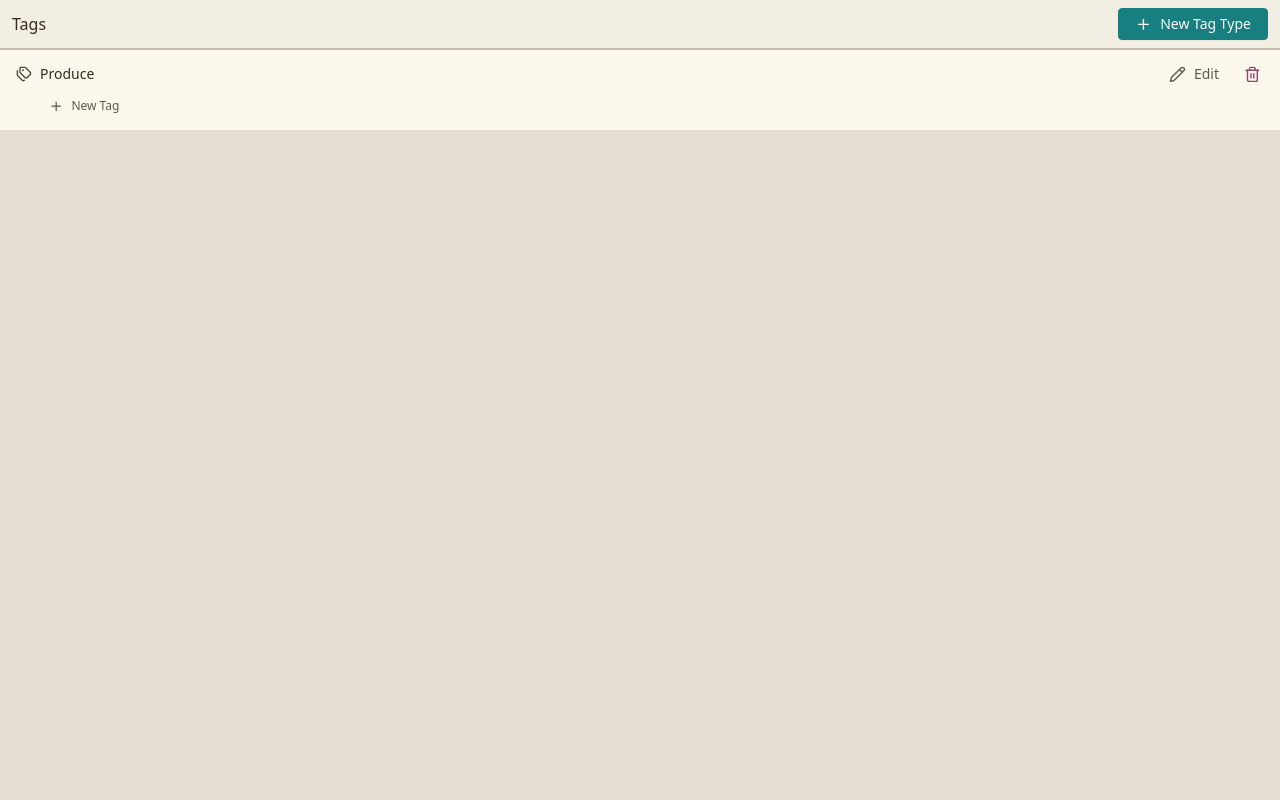
Test: TagSettings — tag creation dialog (cloud mode bug) › user can open Add Tag dialog by clicking the New Tag button
// When user clicks the "+ New Tag" button inside the Produce card
Click the button "New Tag".
click(84, 106)  # box 40,94 -> 128,118
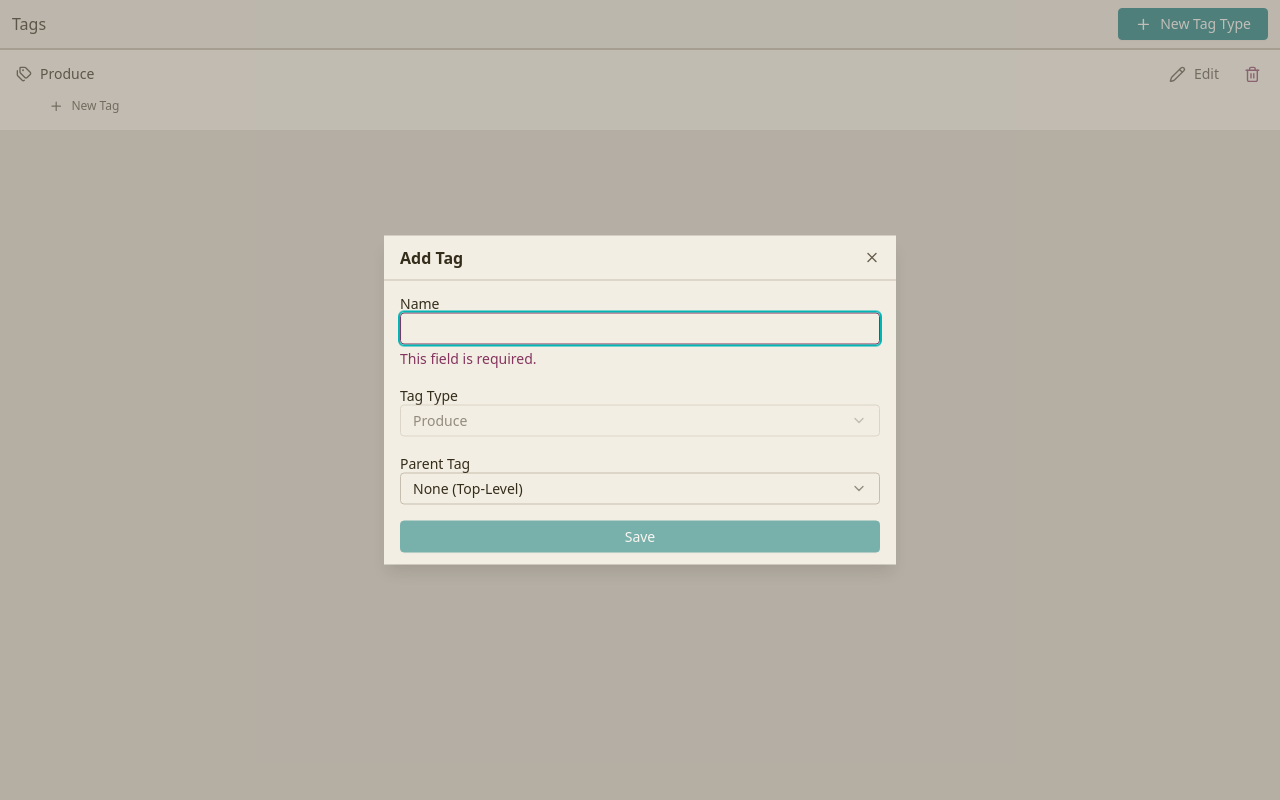
Now the dialog is shown, box 384,236 -> 896,564
